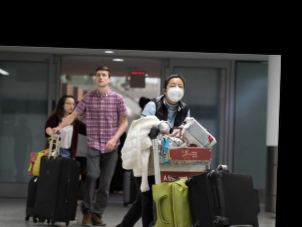with_mask: (165, 79, 185, 102)
without_mask: (94, 70, 109, 87), (62, 97, 76, 113)
